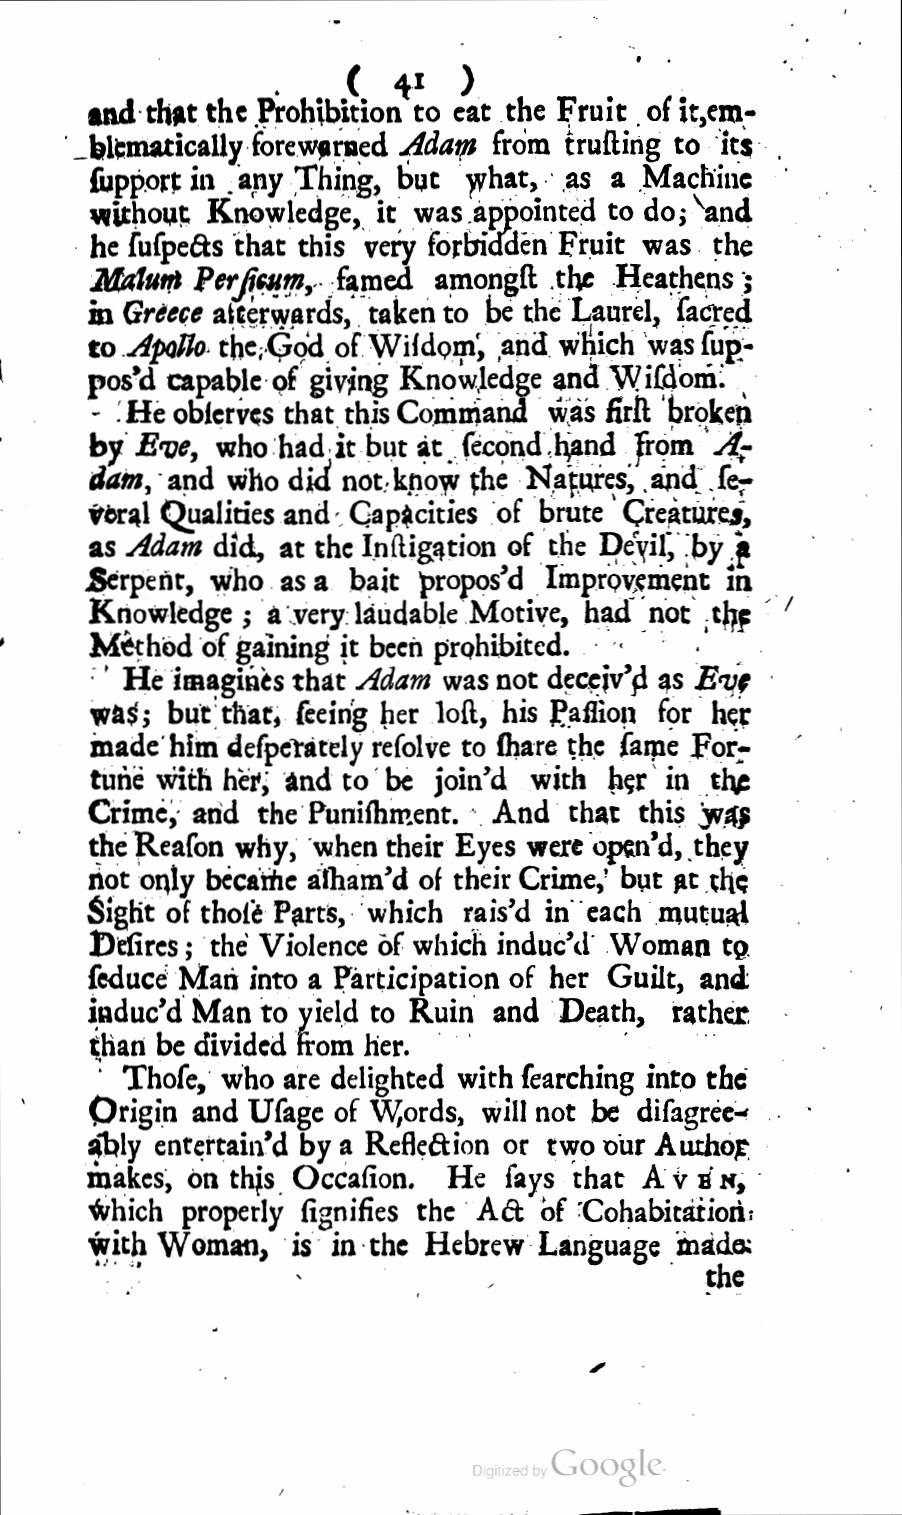bottom_p: (82, 93, 757, 665)
catchword: (703, 1262, 746, 1290)
full_p: (86, 661, 754, 1058)
page_num: (345, 61, 478, 98)
top_p: (86, 1060, 756, 1267)
